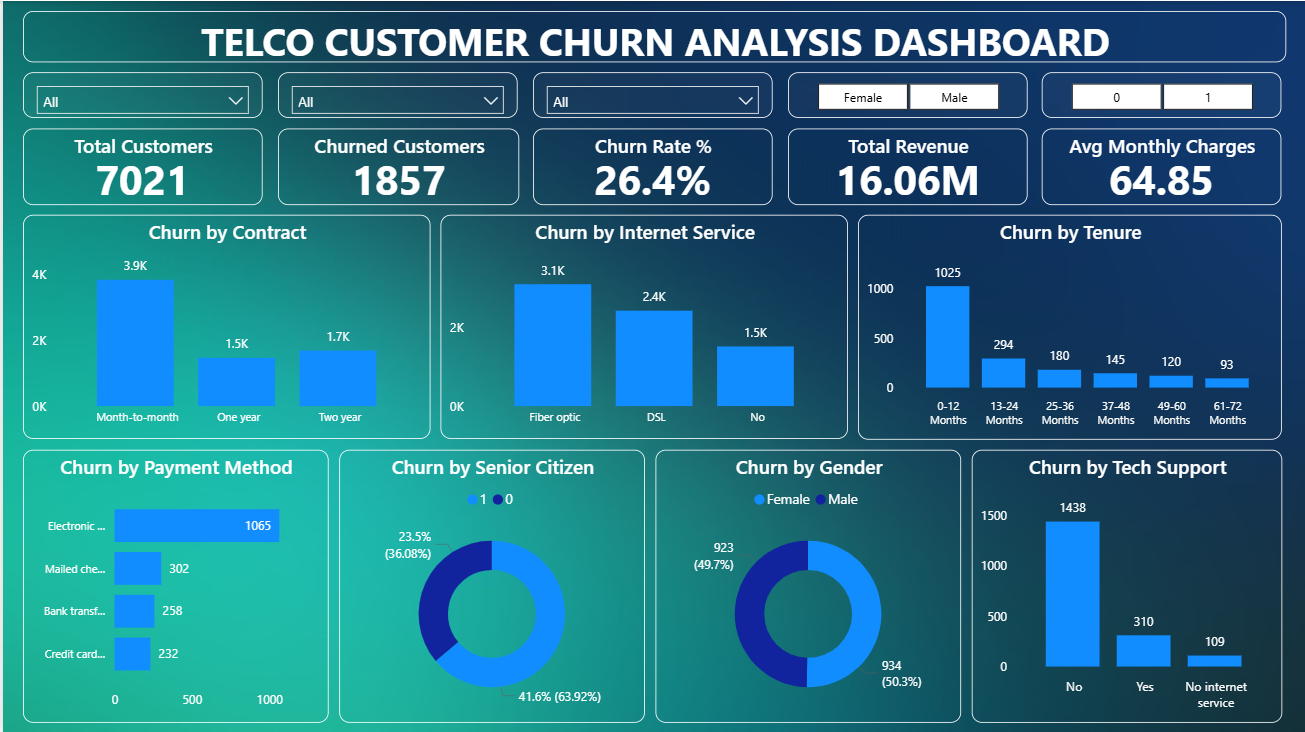

The page's visual inventory and layout, read from the dashboard file:
{"tool":"powerbi","page":{"name":"Page 1","canvas":[1280,720],"ordinal":0},"visuals":[{"type":"slicer","fields":{"Values":["Telco_Customer_Churn.PaymentMethod"]},"box":[520,70,235,45],"z":0},{"type":"slicer","fields":{"Values":["Telco_Customer_Churn.gender"]},"box":[770,70,235,45],"z":1000},{"type":"slicer","fields":{"Values":["Telco_Customer_Churn.SeniorCitizen"]},"box":[1020,70,235,45],"z":2000},{"type":"textbox","title":"TELCO CUSTOMER CHURN ANALYSIS DASHBOARD","box":[20,10,1240,50],"z":3000},{"type":"slicer","fields":{"Values":["Telco_Customer_Churn.Contract"]},"box":[20,70,235,45],"z":4000},{"type":"slicer","fields":{"Values":["Telco_Customer_Churn.InternetService"]},"box":[270,70,235.1,45],"z":5000},{"type":"card","title":"Total Customers","fields":{"Values":["Telco_Customer_Churn.Total Customers"]},"box":[20,125,235,75],"z":6000},{"type":"card","title":"Churned Customers","fields":{"Values":["Telco_Customer_Churn.Churned Customers"]},"box":[270,125,237,75],"z":7000},{"type":"card","title":"Churn Rate %","fields":{"Values":["Telco_Customer_Churn.Churn Rate %"]},"box":[520,125,235,75],"z":8000},{"type":"card","title":"Total Revenue","fields":{"Values":["Telco_Customer_Churn.Total Revenue"]},"box":[770,125,235,75],"z":9000},{"type":"card","title":"Avg Monthly Charges","fields":{"Values":["Telco_Customer_Churn.Average Monthly Charges"]},"box":[1020,125,235,75],"z":10000},{"type":"columnChart","title":"Churn by Contract","fields":{"Y":["CountNonNull(Telco_Customer_Churn.Churn)"],"Category":["Telco_Customer_Churn.Contract"]},"box":[20,210,400,220],"z":11000},{"type":"columnChart","title":"Churn by Internet Service","fields":{"Category":["Telco_Customer_Churn.InternetService"],"Y":["CountNonNull(Telco_Customer_Churn.Churn)"]},"box":[430,210,400,220],"z":12000},{"type":"columnChart","title":"Churn by Tenure","fields":{"Y":["Telco_Customer_Churn.Churned Customers"],"Category":["Telco_Customer_Churn.Tenure Group"]},"box":[839.3,209.8,416,220.9],"z":13000},{"type":"donutChart","title":"Churn by Senior Citizen","fields":{"Category":["Telco_Customer_Churn.SeniorCitizen"],"Y":["Telco_Customer_Churn.Churn Rate %"]},"box":[330,440,300,268],"z":14000},{"type":"clusteredBarChart","title":"Churn by Payment Method","fields":{"Category":["Telco_Customer_Churn.PaymentMethod"],"Y":["Telco_Customer_Churn.Churned Customers"]},"box":[19.9,440.4,299.8,268],"z":15000},{"type":"donutChart","title":"Churn by Gender","fields":{"Category":["Telco_Customer_Churn.gender"],"Y":["Telco_Customer_Churn.Churned Customers"]},"box":[640,440,300,268],"z":16000},{"type":"clusteredColumnChart","title":"Churn by Tech Support","fields":{"Category":["Telco_Customer_Churn.TechSupport"],"Y":["Telco_Customer_Churn.Churned Customers"]},"box":[950.4,440.4,304.8,268],"z":17000}]}

Visuals, with their boxes in screenshot pixels (x1, y1, x2, y2), scaled from the page's 1280x720 canvas onto the 1305x732 screenshot:
slicer - Telco_Customer_Churn.PaymentMethod: 530 71 770 117
slicer - Telco_Customer_Churn.gender: 785 71 1025 117
slicer - Telco_Customer_Churn.SeniorCitizen: 1040 71 1280 117
"TELCO CUSTOMER CHURN ANALYSIS DASHBOARD" textbox: 20 10 1285 61
slicer - Telco_Customer_Churn.Contract: 20 71 260 117
slicer - Telco_Customer_Churn.InternetService: 275 71 515 117
"Total Customers" card: 20 127 260 203
"Churned Customers" card: 275 127 517 203
"Churn Rate %" card: 530 127 770 203
"Total Revenue" card: 785 127 1025 203
"Avg Monthly Charges" card: 1040 127 1280 203
"Churn by Contract" columnChart: 20 214 428 437
"Churn by Internet Service" columnChart: 438 214 846 437
"Churn by Tenure" columnChart: 856 213 1280 438
"Churn by Senior Citizen" donutChart: 336 447 642 720
"Churn by Payment Method" clusteredBarChart: 20 448 326 720
"Churn by Gender" donutChart: 652 447 958 720
"Churn by Tech Support" clusteredColumnChart: 969 448 1280 720
